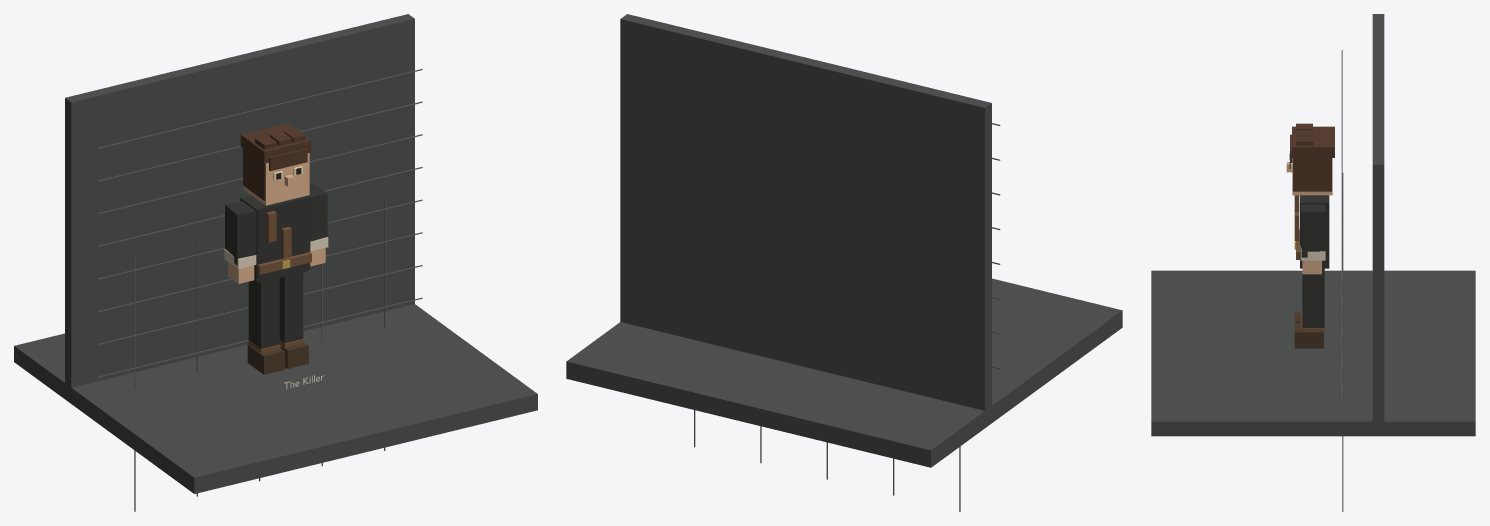
The model's file is killer.fbx.
3 views of the same model, side by side, from view 1: azimuth 30°, elevation 25°; view 2: azimuth 150°, elevation 25°; view 3: azimuth 270°, elevation 25° (orthographic). The views are drawn at different scales.
Visible parts, largest first — view 1: Backdrop wall, Backdrop floor, The Killer | torso, The Killer | L leg, The Killer | R leg, The Killer | L upper arm, The Killer | head, The Killer | hair cap, The Killer | R upper arm, The Killer | side hair, The Killer | L boot, The Killer | coat body (+1 smaller); view 2: Backdrop wall, Backdrop floor; view 3: Backdrop floor, Backdrop wall, The Killer | R upper arm, The Killer | side hair.001, The Killer | R leg, The Killer | hair cap, The Killer | coat body, The Killer | R boot, Backdrop grid vertical.004.
Part boxes in pixels (x1=…): Backdrop wall: x1=65, y1=14, x2=414, y2=395; Backdrop floor: x1=14, y1=304, x2=537, y2=493; The Killer | torso: x1=258, y1=197, x2=308, y2=282; The Killer | L leg: x1=248, y1=278, x2=279, y2=348; The Killer | R leg: x1=279, y1=272, x2=303, y2=343; The Killer | L upper arm: x1=225, y1=201, x2=255, y2=265; The Killer | head: x1=243, y1=153, x2=309, y2=205; The Killer | hair cap: x1=240, y1=123, x2=311, y2=163; The Killer | R upper arm: x1=309, y1=183, x2=327, y2=241; The Killer | side hair: x1=243, y1=148, x2=265, y2=200; The Killer | L boot: x1=247, y1=344, x2=285, y2=374; The Killer | coat body: x1=240, y1=195, x2=310, y2=282; Backdrop wall: x1=620, y1=14, x2=991, y2=419; Backdrop floor: x1=566, y1=278, x2=1122, y2=467; Backdrop floor: x1=1151, y1=270, x2=1475, y2=436; Backdrop wall: x1=1372, y1=14, x2=1384, y2=429; The Killer | R upper arm: x1=1300, y1=204, x2=1326, y2=257; The Killer | side hair.001: x1=1293, y1=158, x2=1331, y2=191; The Killer | R leg: x1=1302, y1=268, x2=1324, y2=327; The Killer | hair cap: x1=1292, y1=126, x2=1334, y2=157; The Killer | coat body: x1=1300, y1=195, x2=1329, y2=268; The Killer | R boot: x1=1294, y1=323, x2=1323, y2=348; Backdrop grid vertical.004: x1=1342, y1=282, x2=1343, y2=511.
Size of the model in its own units: 550 by 625 by 500.
